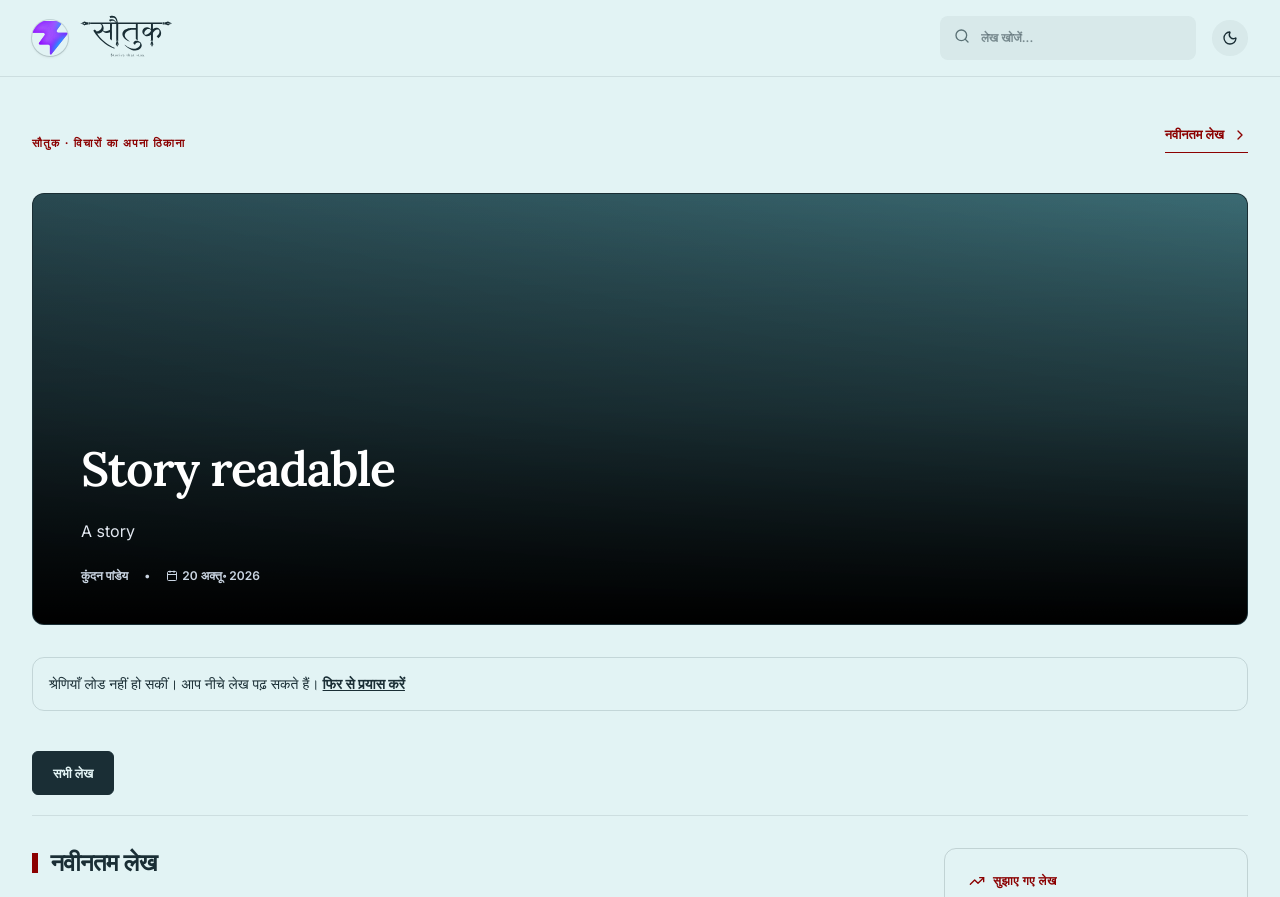
Test: keeps articles visible during a categories HTTP failure and retries categories independently
This screenshot has width=1280, height=897.
Expected: the heading "Story readable" is shown, [81, 438, 395, 499]
Expected: the message "श्रेणियाँ लोड नहीं हो सकीं। आप नीचे लेख पढ़ सकते हैं। फिर से प्रयास करें" is shown, [32, 657, 1248, 711]
Step 1. Click the button "फिर से प्रयास करें" → (364, 684), box [323, 674, 405, 694]
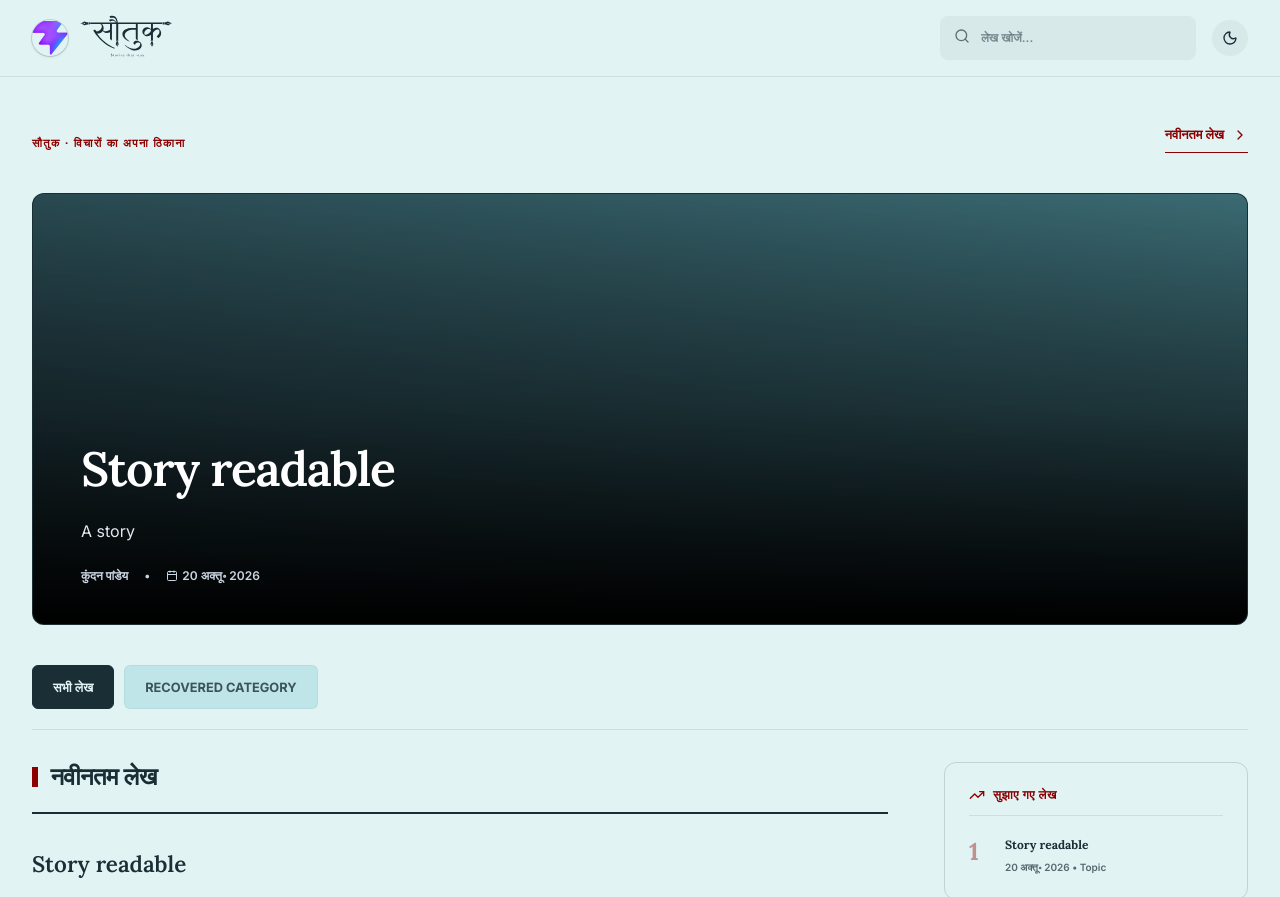
Now the button "Recovered category" is shown, box [124, 665, 318, 709]
Now the message "श्रेणियाँ लोड नहीं हो सकीं। आप नीचे लेख पढ़ सकते हैं। फिर से प्रयास करें" is gone
